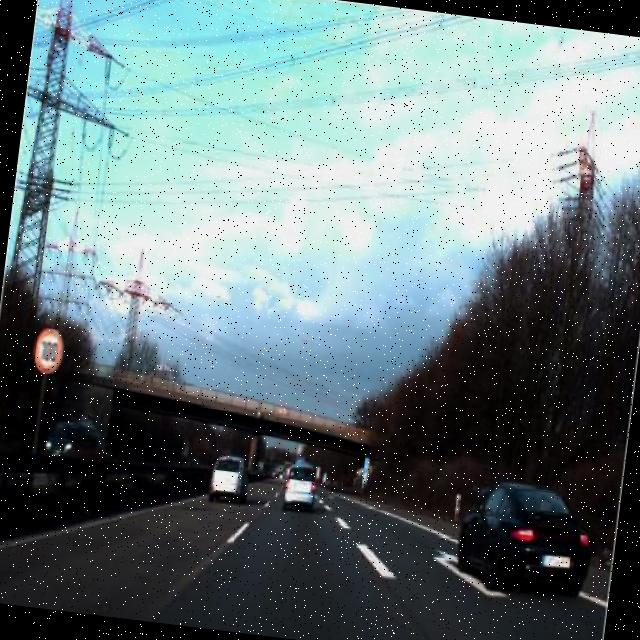Ograniczenie predkosci do 100: (28, 324, 69, 378)
